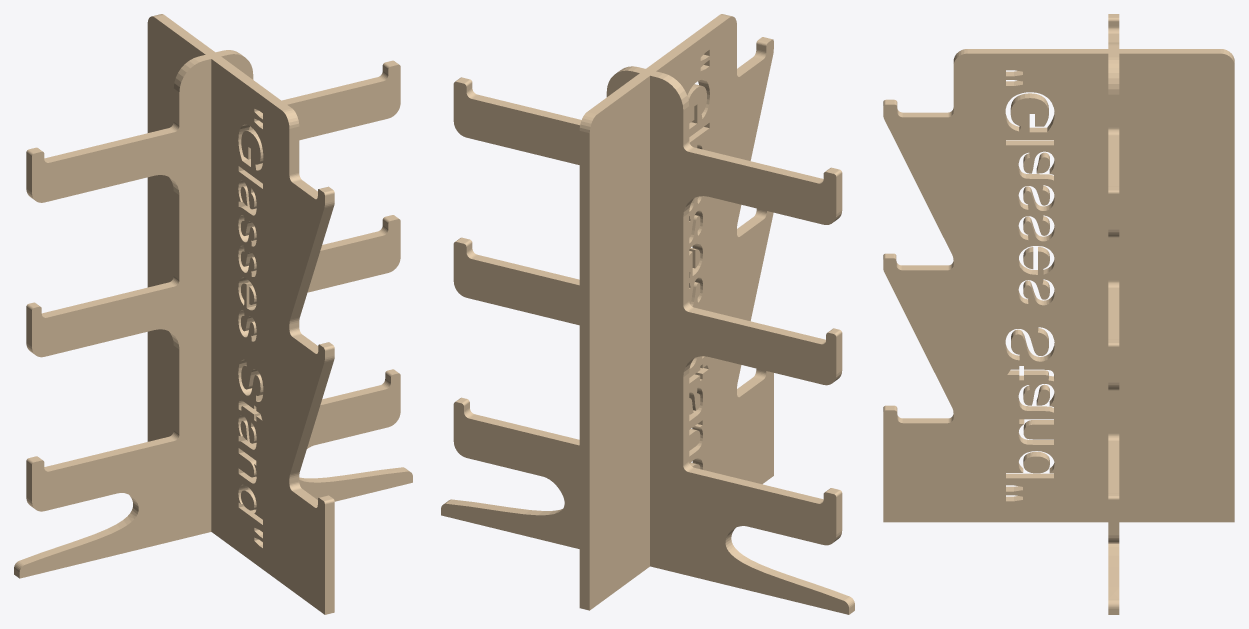
Rendered from stand.glb.
3 renders of one model, left to right at view 1: azimuth 30°, elevation 25°; view 2: azimuth 150°, elevation 25°; view 3: azimuth 270°, elevation 25°, orthographic. The views are drawn at different scales.
Parts seen in each view (by area): view 1: finalnoseflat2, finalbranchflat3; view 2: finalbranchflat3, finalnoseflat2; view 3: finalnoseflat2, finalbranchflat3.
Boxes of the visible parts, x1,y1,x2,y2 form: finalnoseflat2: (147, 14, 334, 614); finalbranchflat3: (14, 50, 412, 578); finalbranchflat3: (441, 66, 854, 614); finalnoseflat2: (579, 14, 773, 610); finalnoseflat2: (883, 49, 1234, 522); finalbranchflat3: (1108, 14, 1119, 614).
Bounding box in the file's own units: 0.16 × 0.1839 × 0.125.
